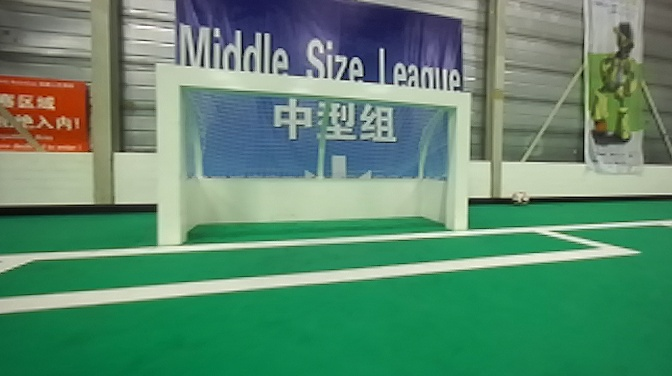goalpost: (146, 54, 193, 249), (442, 86, 479, 233)
